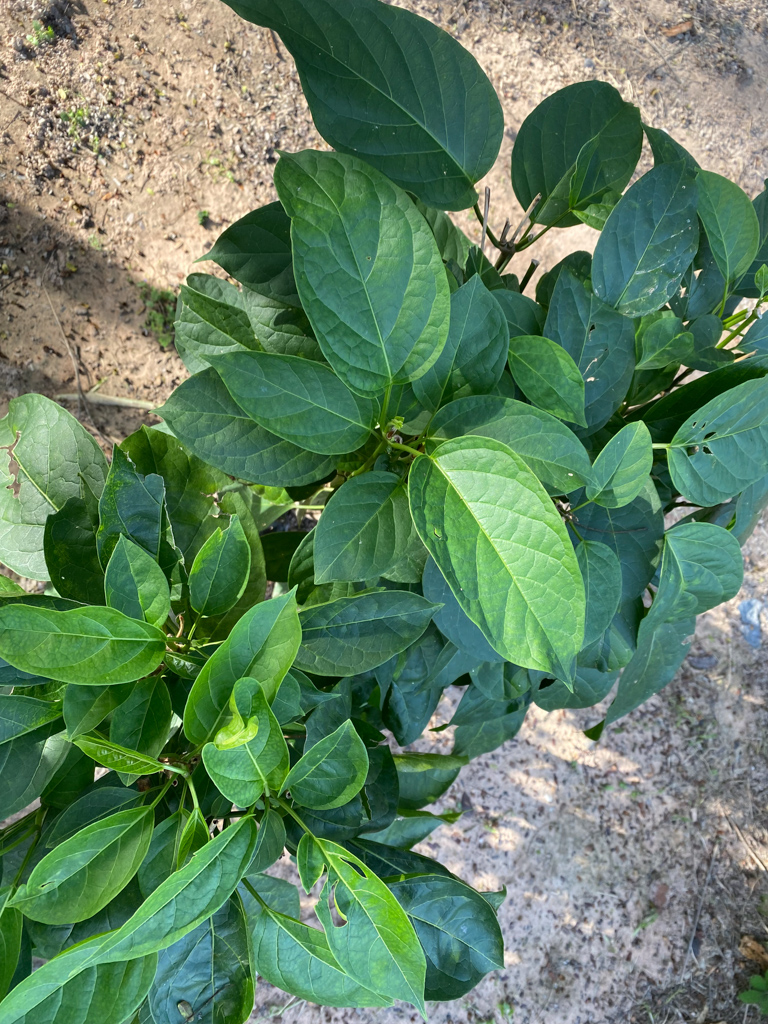Canker: (198, 681, 274, 768)
